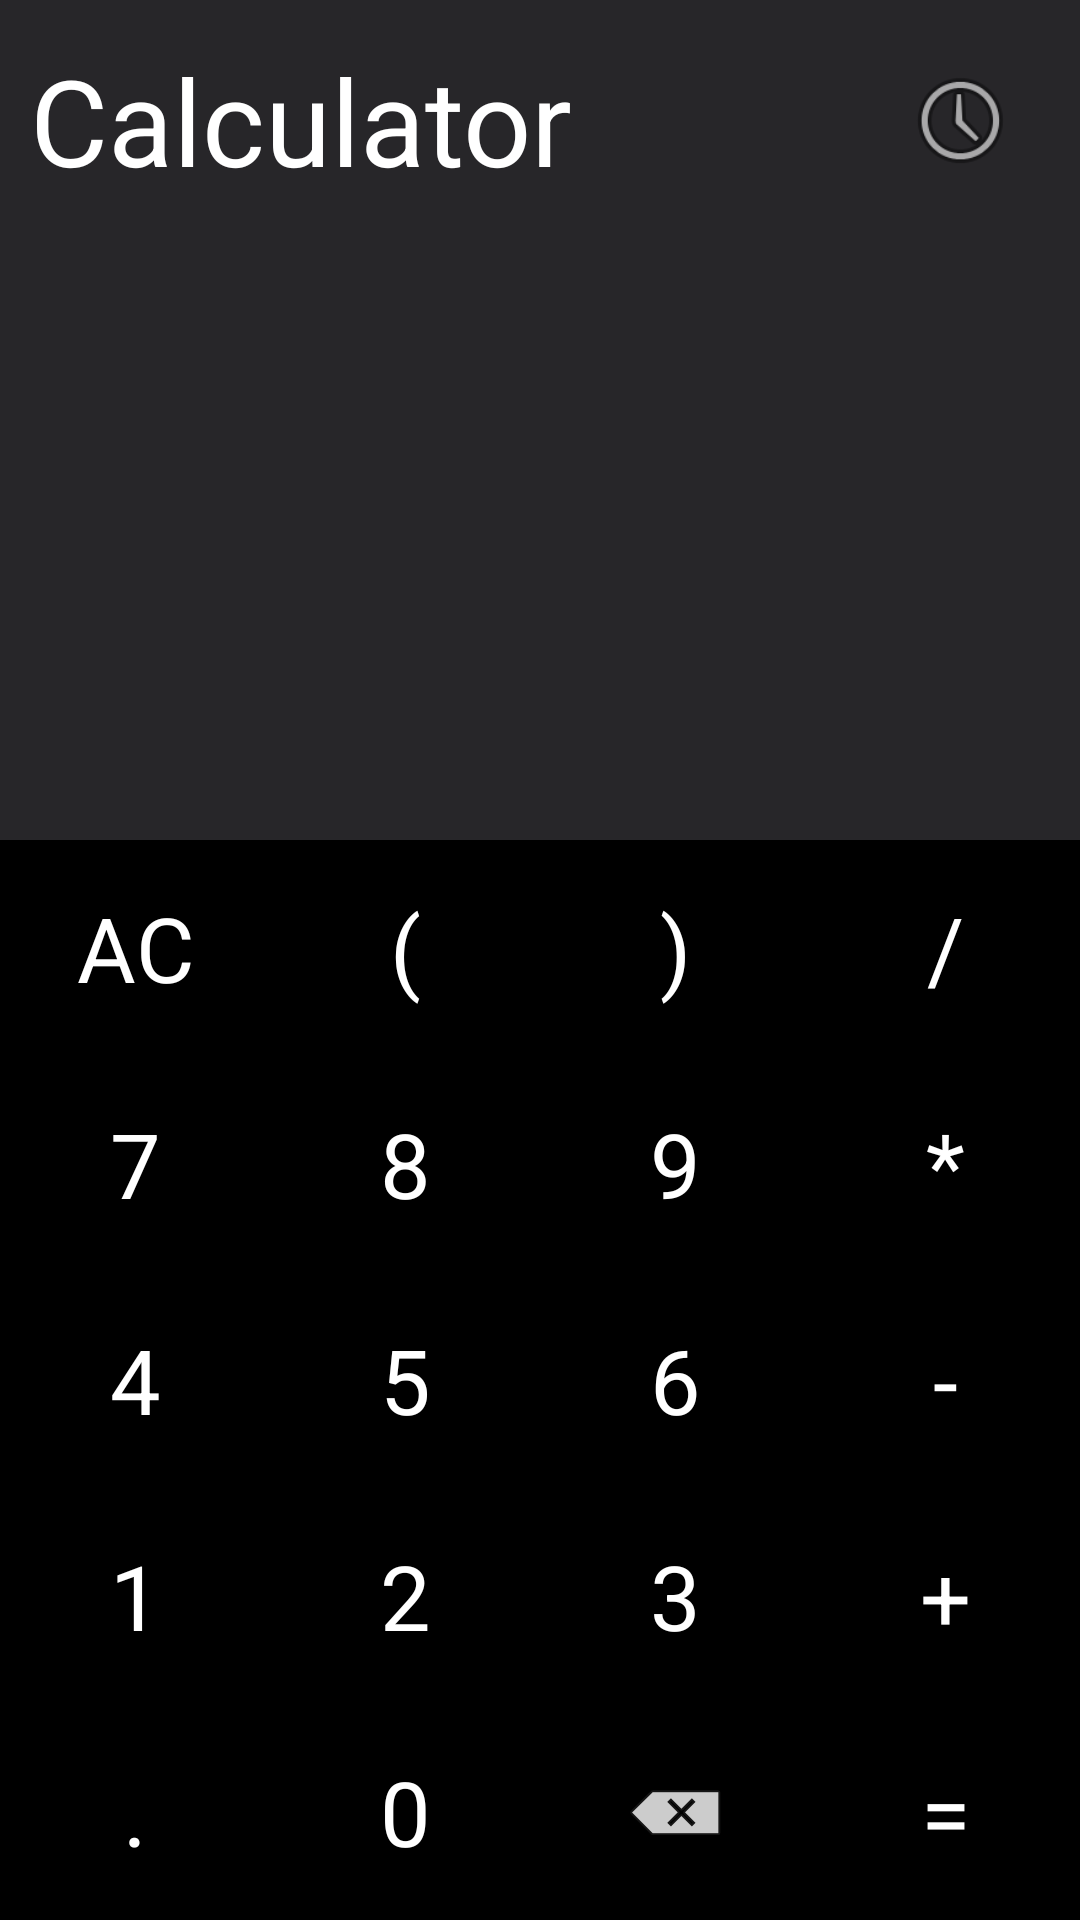

Icons on this 1080w x 1920h Android screen, each with the point to tap as (x=x, y=y):
delete: (x=675, y=1813)
recent history: (x=960, y=121)
